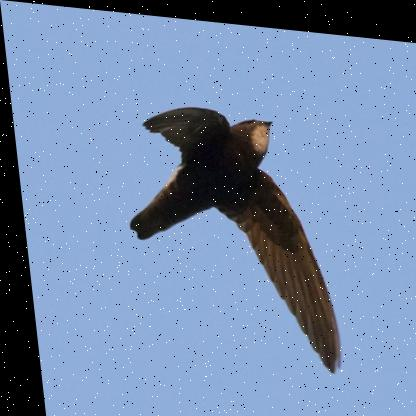Burung: (113, 97, 335, 369)
